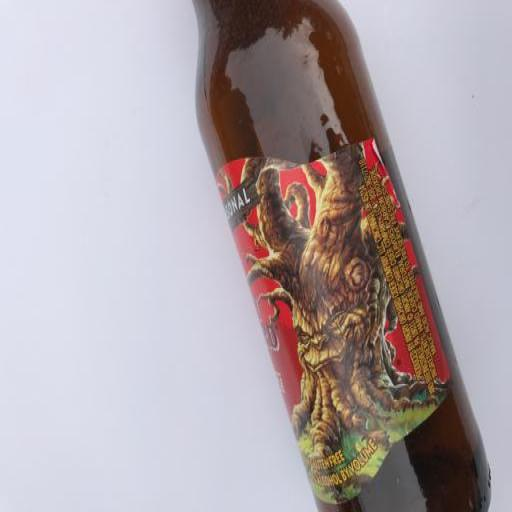glass bottle: (192, 0, 490, 512)
